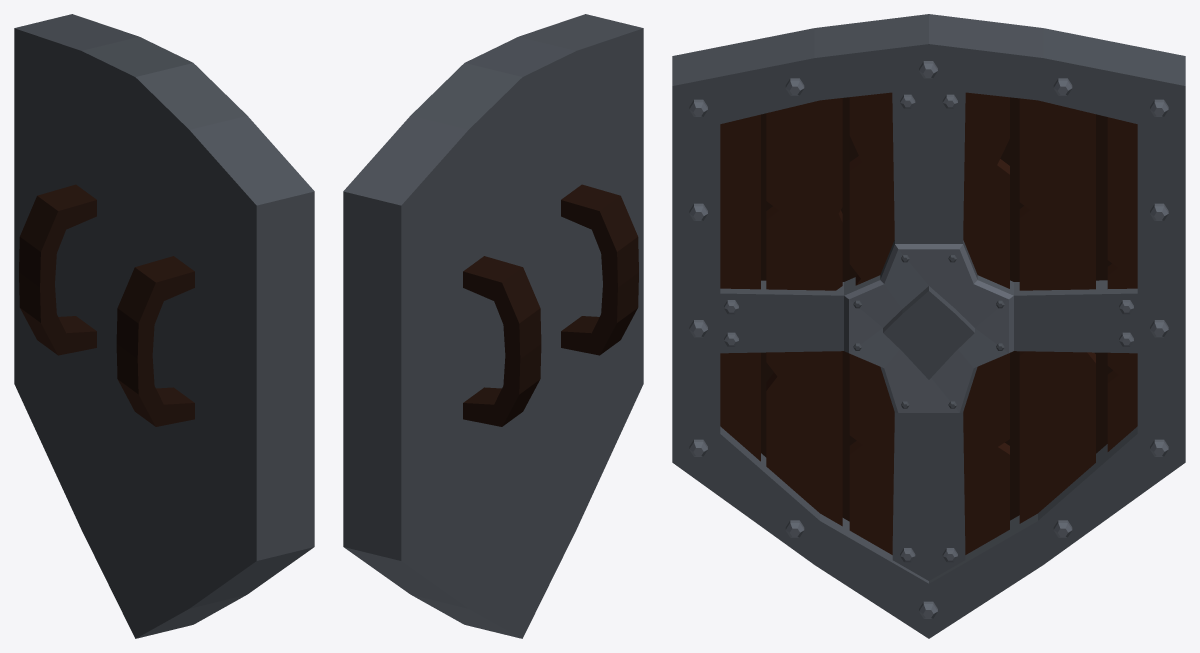
Rendered from Shield_Heater.glb.
3 views of the same model, side by side, from view 1: azimuth 30°, elevation 25°; view 2: azimuth 150°, elevation 25°; view 3: azimuth 270°, elevation 25° (orthographic). The views are drawn at different scales.
Parts seen in each view (by area): view 1: Shield_Heater; view 2: Shield_Heater; view 3: Shield_Heater.
Part boxes in pixels (x1=…): Shield_Heater: x1=14, y1=14, x2=314, y2=638; Shield_Heater: x1=343, y1=14, x2=643, y2=638; Shield_Heater: x1=672, y1=14, x2=1185, y2=638.
Bounding box in the file's own units: 0.1791 × 0.7691 × 0.6015.
